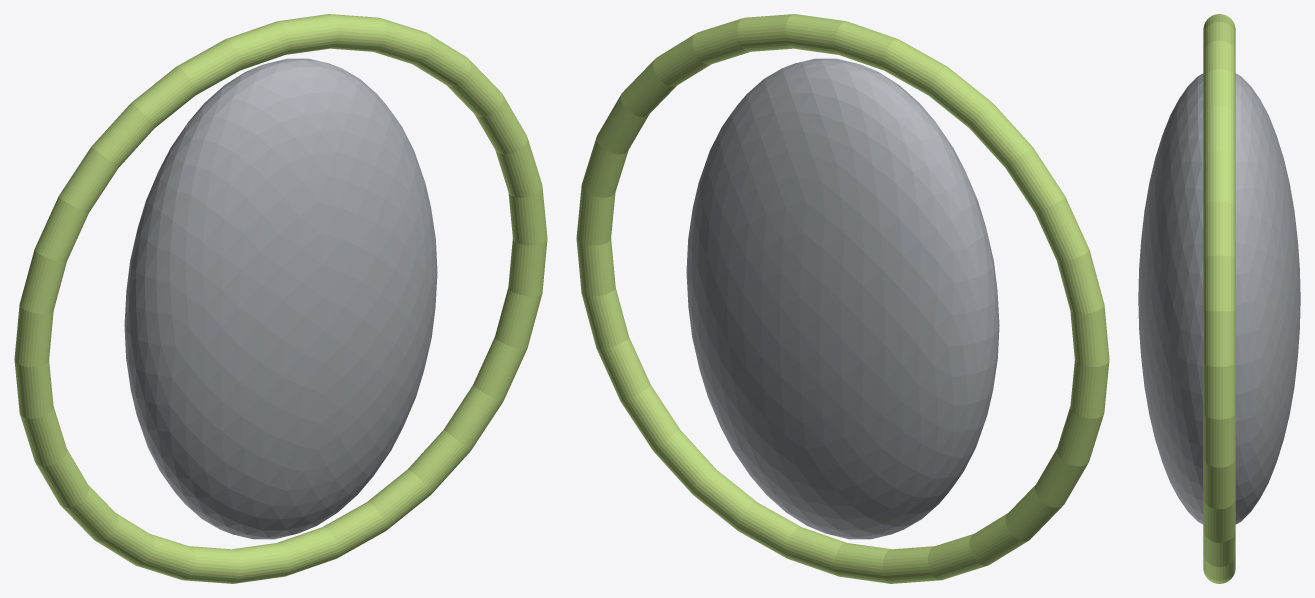
Rendered from signal-03.glb.
3 renders of one model, left to right at view 1: azimuth 30°, elevation 25°; view 2: azimuth 150°, elevation 25°; view 3: azimuth 270°, elevation 25°, orthographic. The views are drawn at different scales.
Parts seen in each view (by area): view 1: world; view 2: world; view 3: world.
Boxes of the visible parts, x1=… form: world: x1=14, y1=14, x2=547, y2=583; world: x1=576, y1=14, x2=1109, y2=583; world: x1=1138, y1=14, x2=1300, y2=583.
Bounding box in the file's own units: 1.23 × 1.23 × 0.35.
